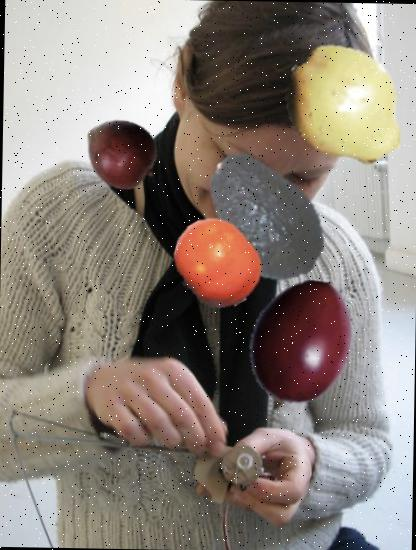Avocado: (193, 145, 336, 288)
Clementine: (169, 215, 264, 310)
Mango: (81, 113, 162, 194)
Quince: (280, 38, 415, 174)
Tamarillo: (231, 278, 370, 416)
